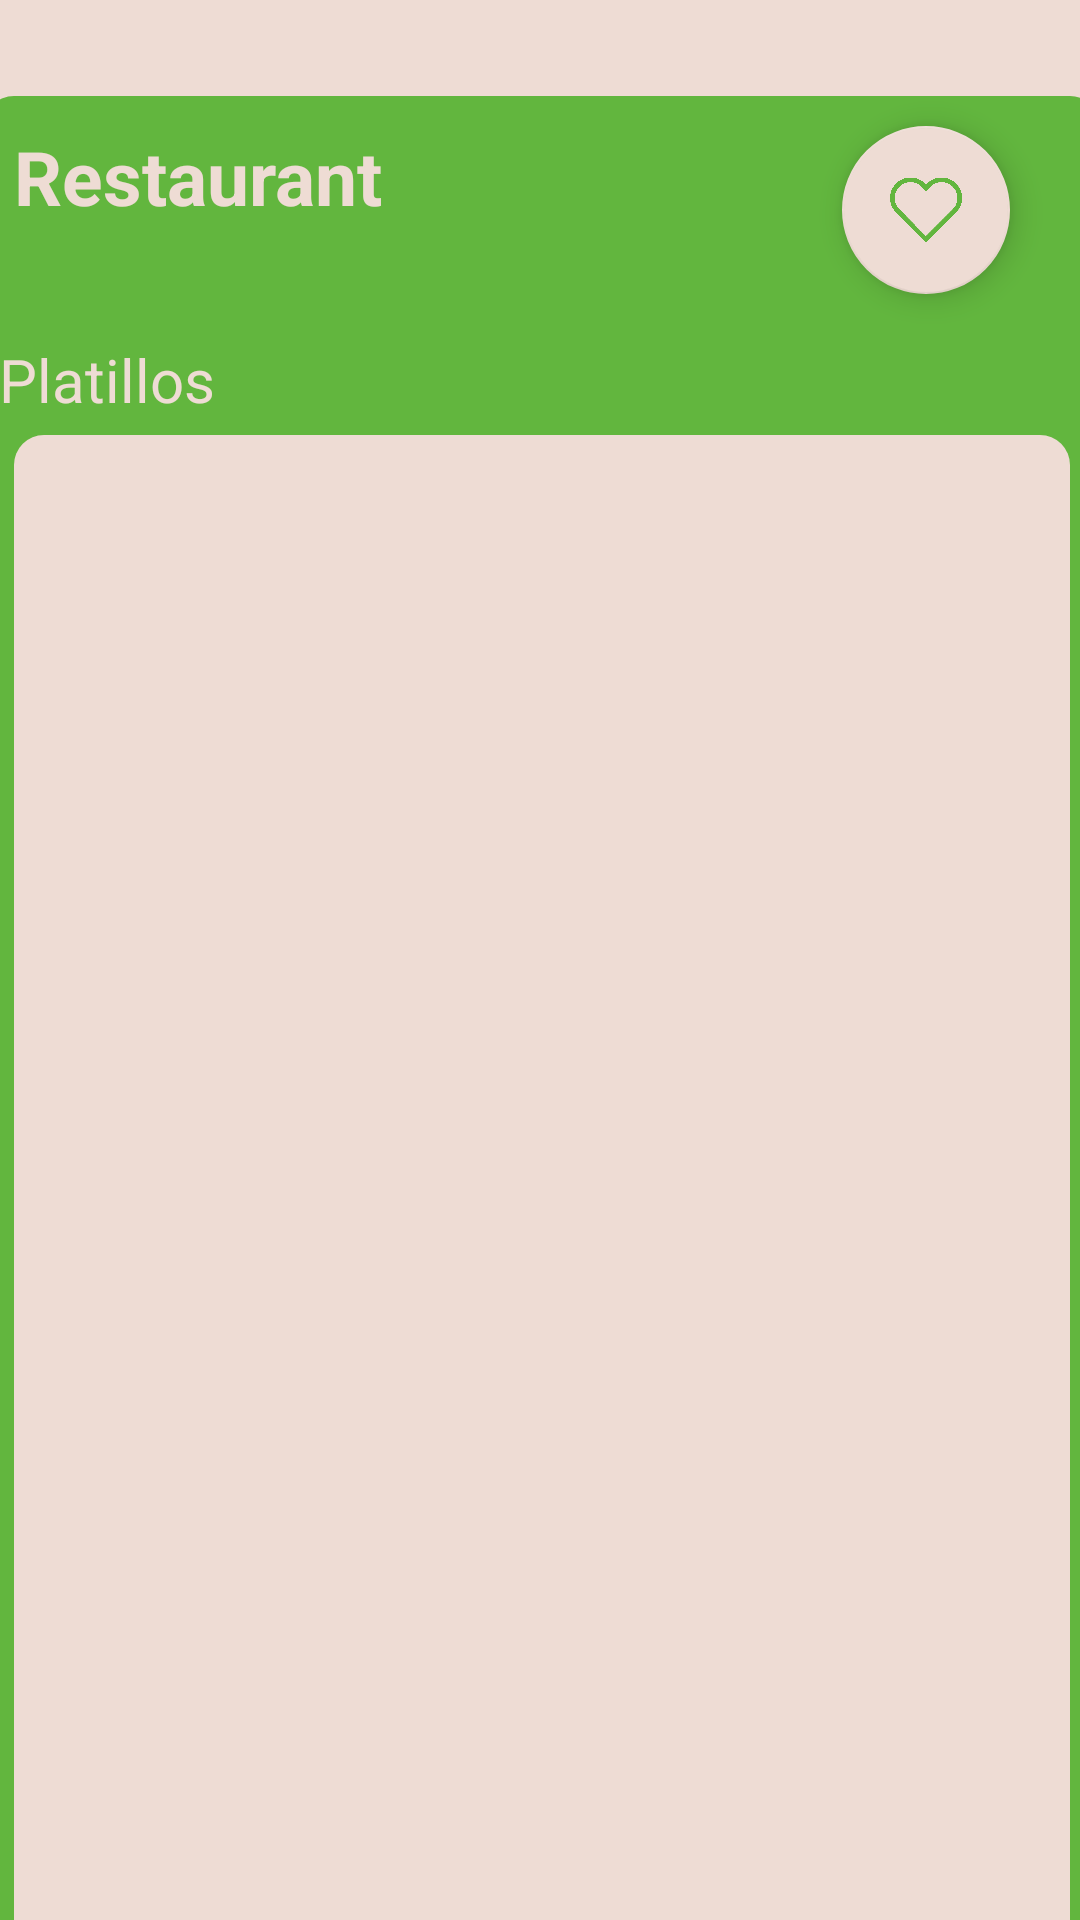

Named icons in this screenshot (1080×1920) and their bounding boxes, [x1, y1, x2, y2]:
fav: [842, 126, 1010, 294]
